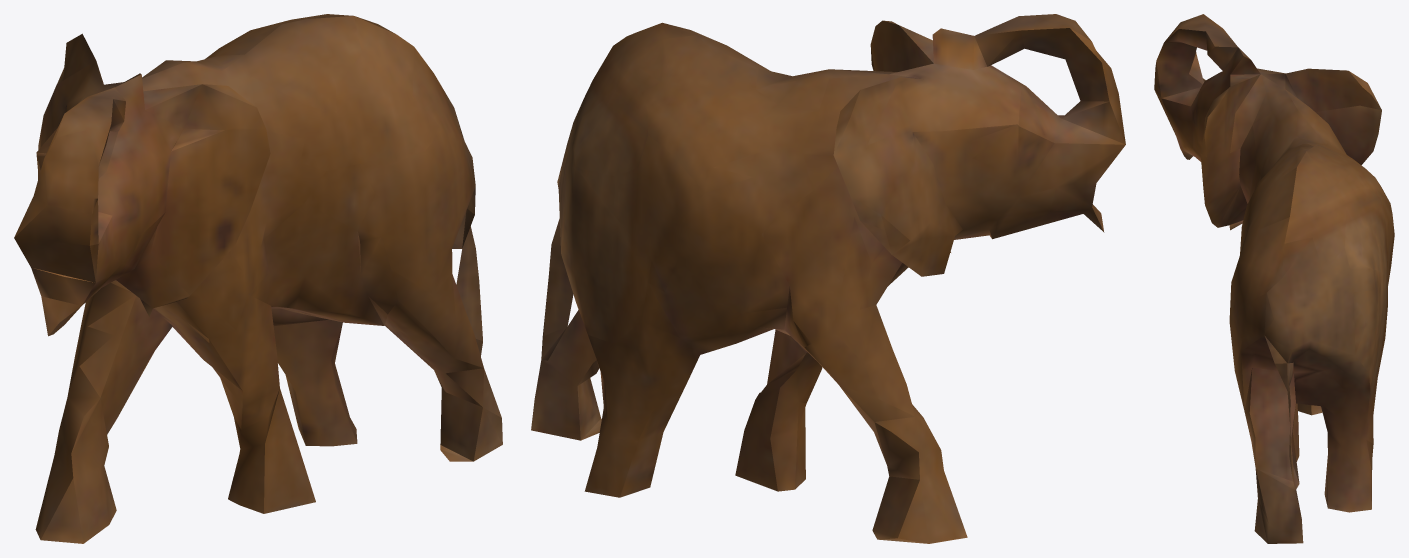
File: elephant.glb
3 views of the same model, side by side, from view 1: azimuth 30°, elevation 25°; view 2: azimuth 150°, elevation 25°; view 3: azimuth 270°, elevation 25° (orthographic). The views are drawn at different scales.
Visible parts, largest first — view 1: mesh; view 2: mesh; view 3: mesh.
Boxes of the visible parts, x1,y1,x2,y2 form: mesh: [14, 14, 502, 543]; mesh: [531, 14, 1125, 543]; mesh: [1154, 14, 1394, 543].
Size of the model in its own units: 0.1108 by 0.0961 by 0.0581.
1 material, 1 textured.
